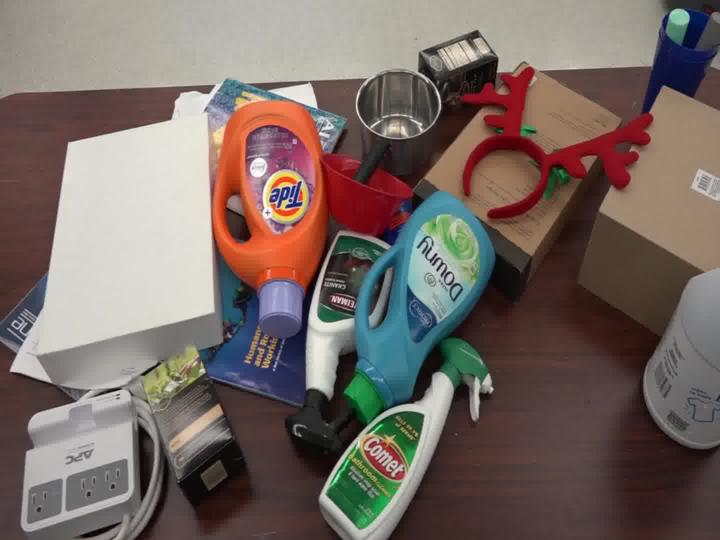tide: (190, 88, 338, 340)
